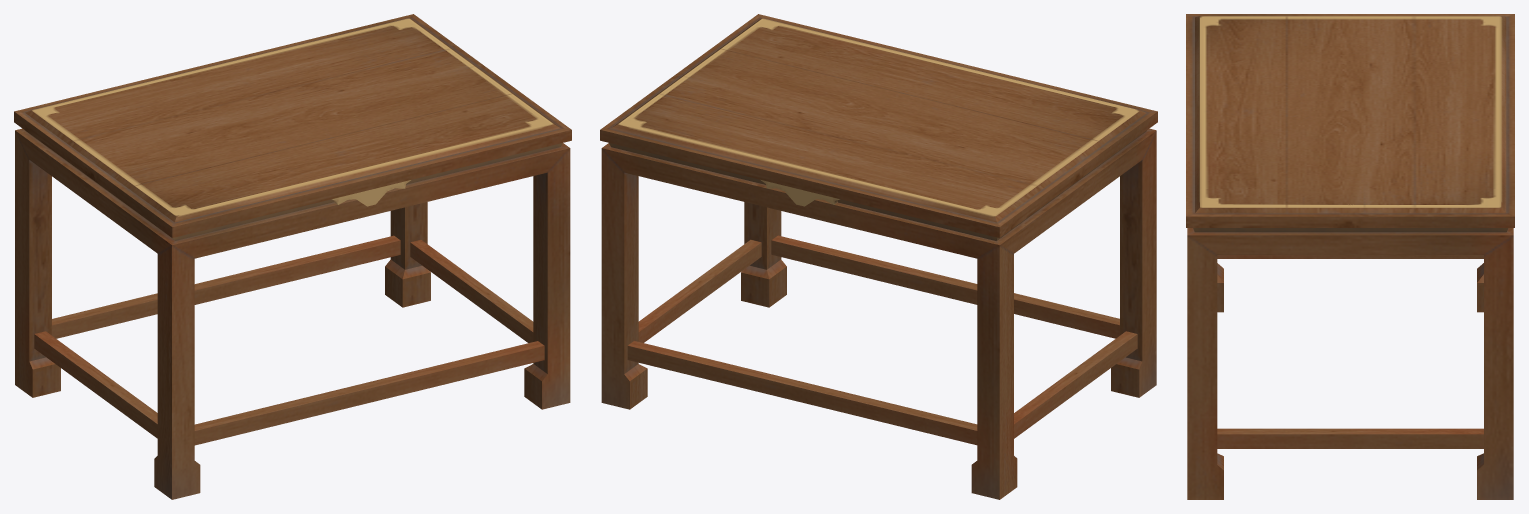
File: Furniture_01_j.FBX
3 renders of one model, left to right at view 1: azimuth 30°, elevation 25°; view 2: azimuth 150°, elevation 25°; view 3: azimuth 270°, elevation 25°, orthographic. The views are drawn at different scales.
Visible parts, largest first — view 1: Furniture_01_j; view 2: Furniture_01_j; view 3: Furniture_01_j.
Boxes of the visible parts, x1,y1,x2,y2 form: Furniture_01_j: [14, 14, 571, 499]; Furniture_01_j: [600, 14, 1157, 499]; Furniture_01_j: [1186, 14, 1514, 499].
Size of the model in its own units: 83.17 by 55 by 57.05.
